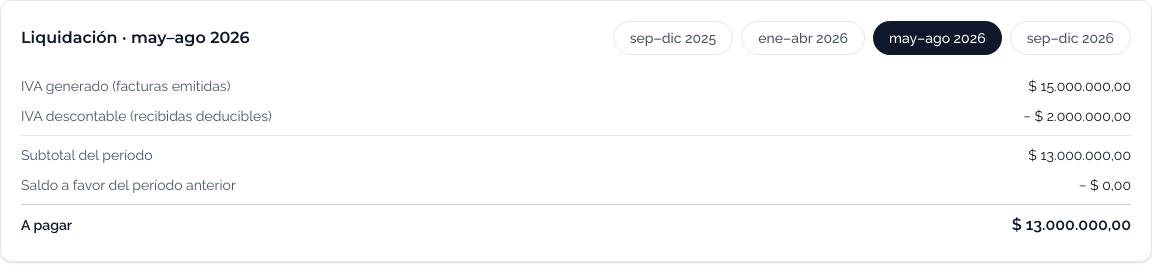
Scenario: LiquidacionCard › selector honesto: un período sin facturas dice 'sin facturas cargadas', no $ 0,00
Click the button "ene–abr 2026".
click(803, 38)  # box [741,21,865,55]
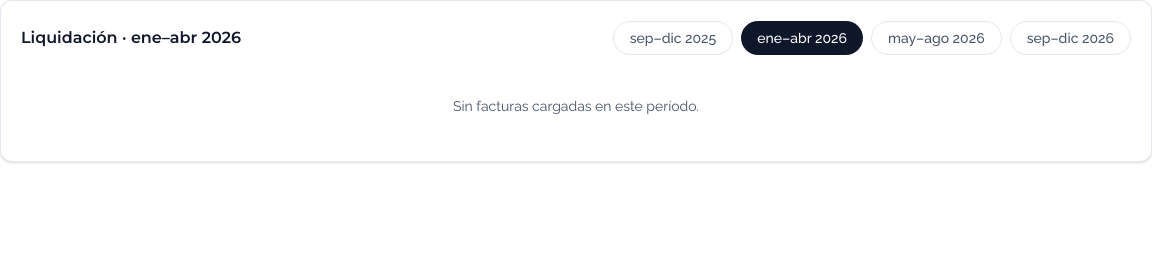
Check: the text "Sin facturas cargadas en este período." is shown, box [453,98,699,114]
Check: the text "A pagar" is gone
